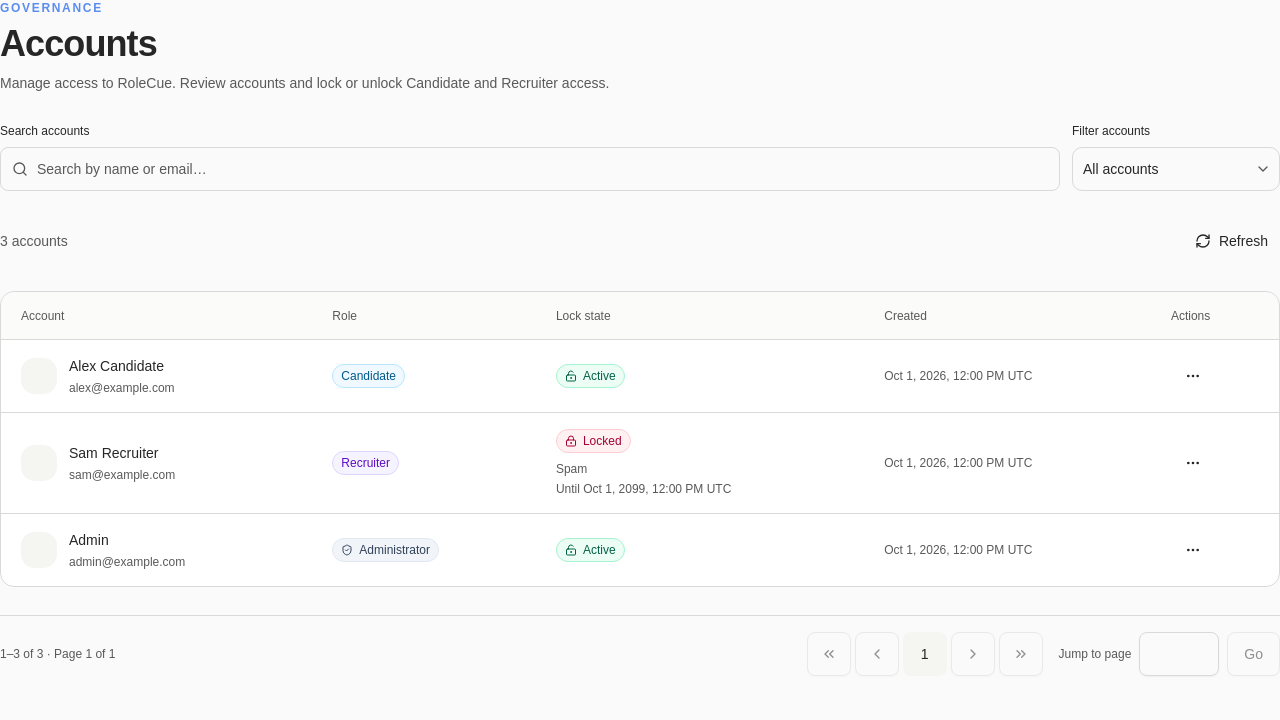
Test: administrator account list › resumes after a denied operation only when a fresh gate and list check both succeed
Step 1. Press Enter in the button named "Actions for Alex Candidate", box top-left (1171, 354), bottom-right (1215, 398)
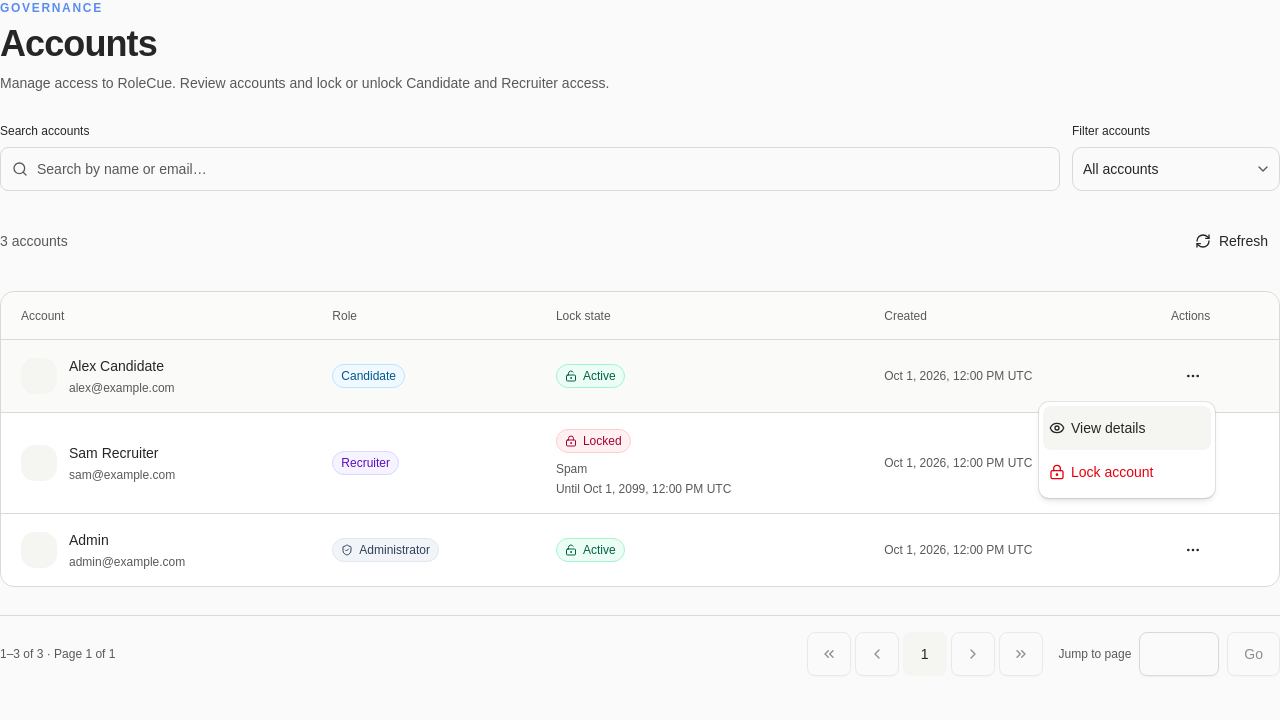
Step 2. Click the menu item "Lock account" → x=1101, y=472, box top-left (1049, 464), bottom-right (1154, 480)
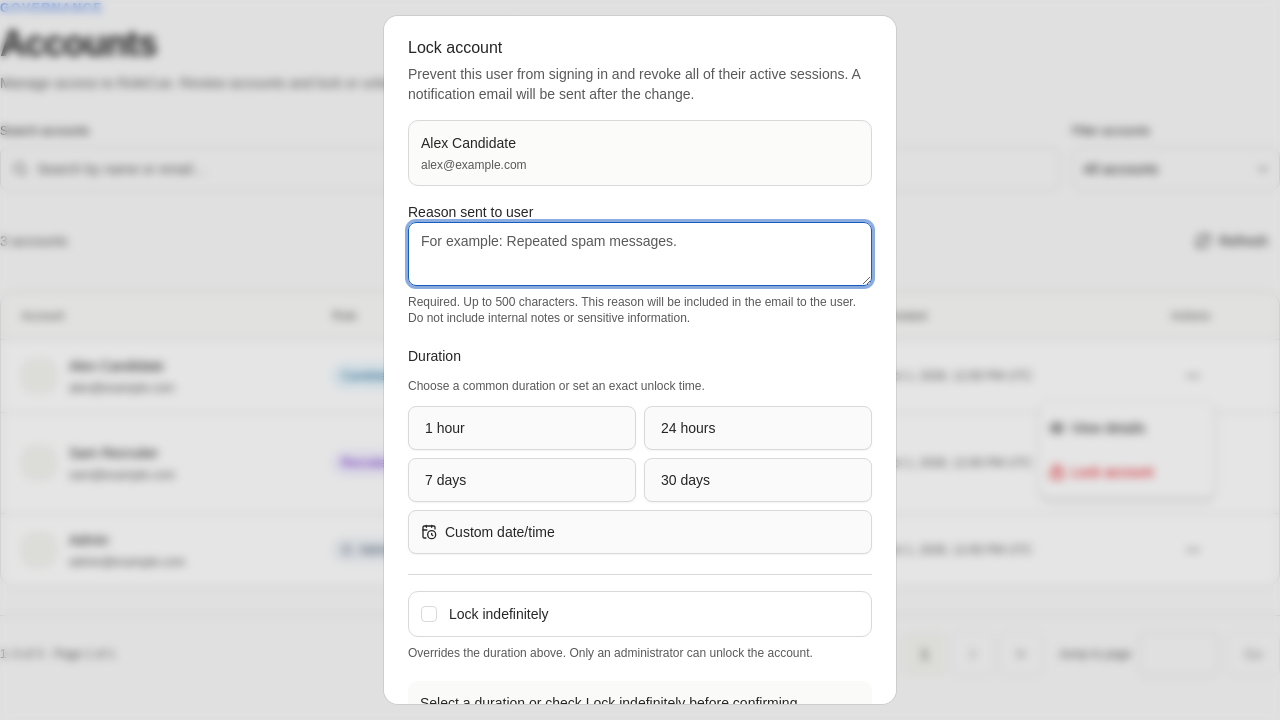
Step 3. Type "Abuse" into the text box labelled "Reason sent to user" → x=640, y=254, box top-left (408, 222), bottom-right (872, 286)
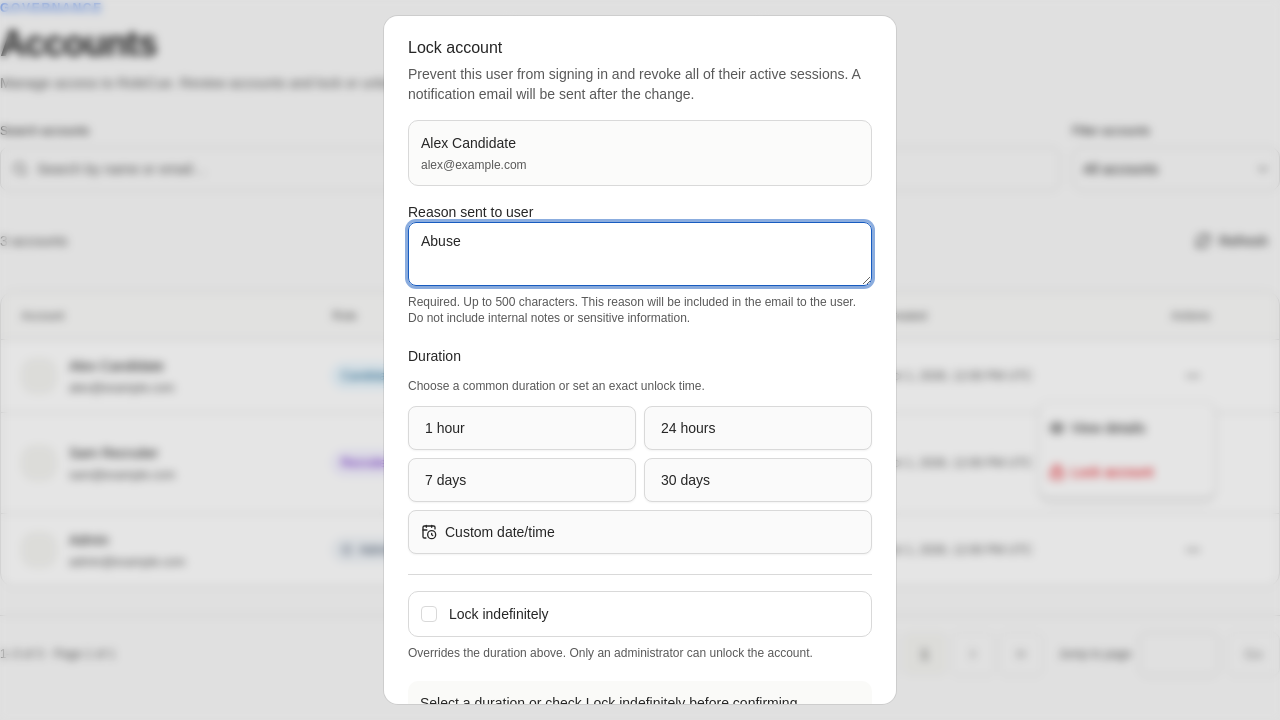
Step 4. Click the checkbox named "Lock indefinitely" → x=429, y=614, box top-left (421, 606), bottom-right (437, 622)
(page scrolled)
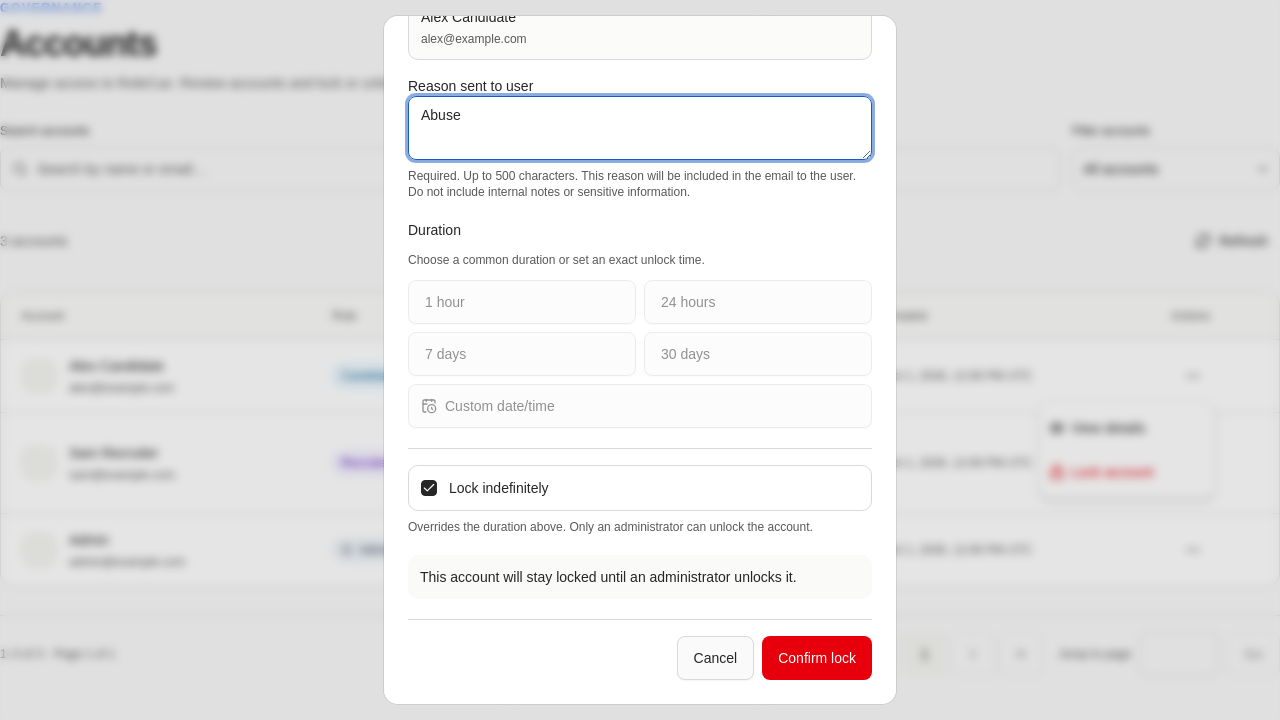
Step 5. Click the button "Confirm lock" → x=817, y=658, box top-left (762, 636), bottom-right (872, 680)
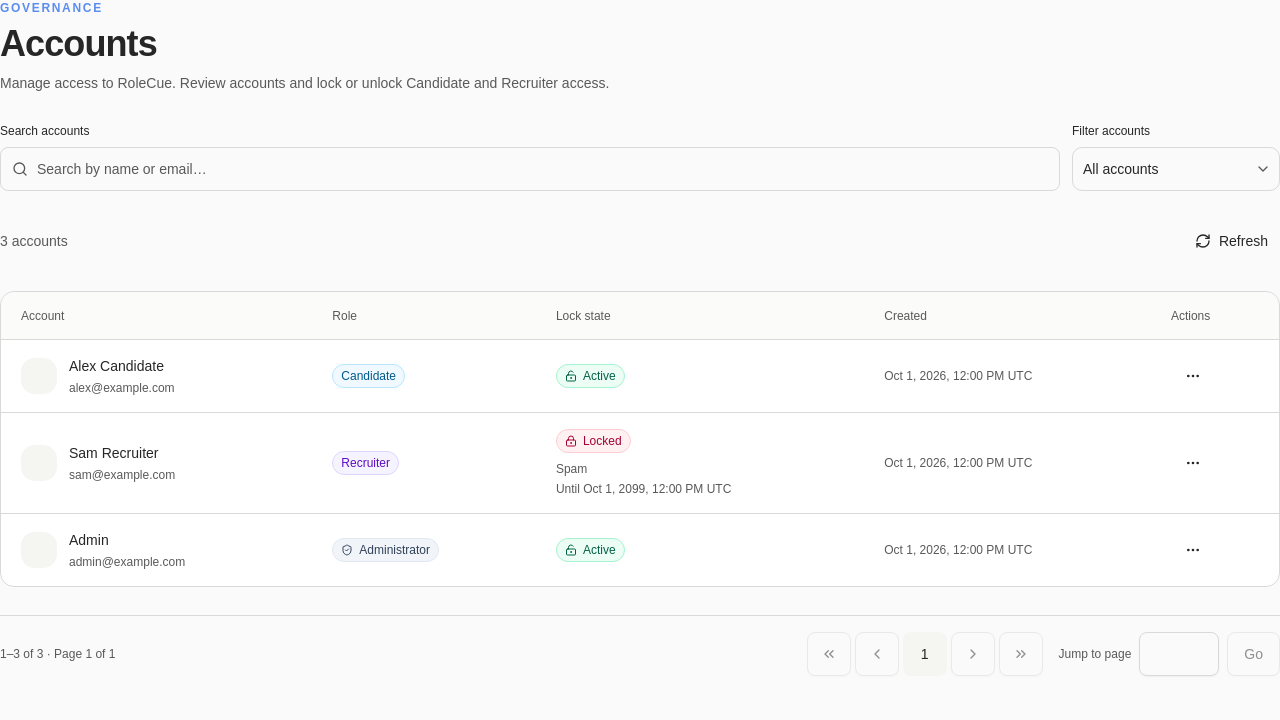
Expected: the button named "Actions for Alex Candidate" is enabled, top-left (1171, 354), bottom-right (1215, 398)
Expected: the dialog is gone
